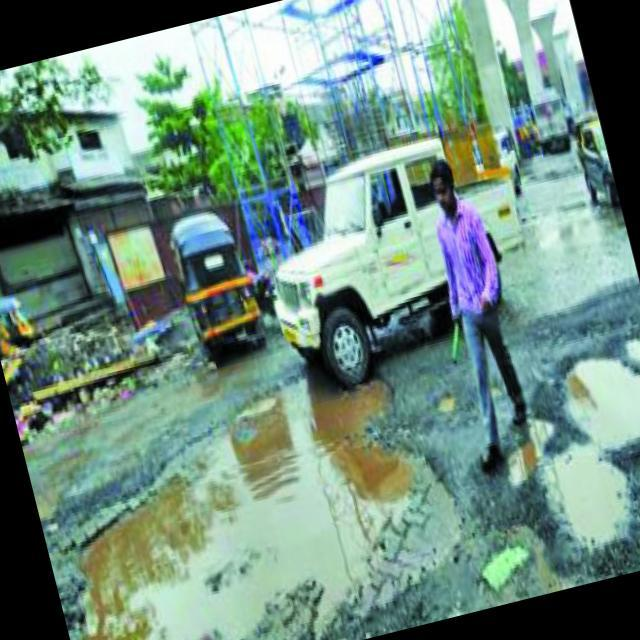Pothole: (26, 331, 502, 640), (480, 330, 640, 585), (430, 376, 480, 432)
